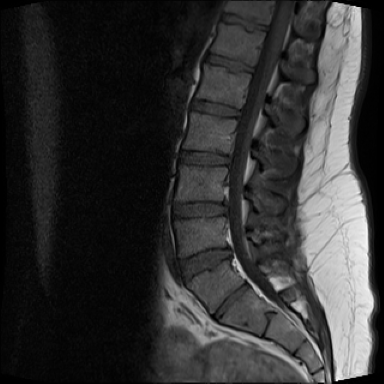Degenerative Disc Disease (DDD): (205, 280, 254, 326), (218, 12, 271, 36)
Lumbar Disc Bulge (LDB): (174, 240, 239, 288)
Normal IVD: (168, 193, 230, 224), (201, 50, 260, 79), (173, 146, 235, 170), (186, 98, 245, 122)
Spinal Stenosis (SS): (220, 239, 238, 265)
